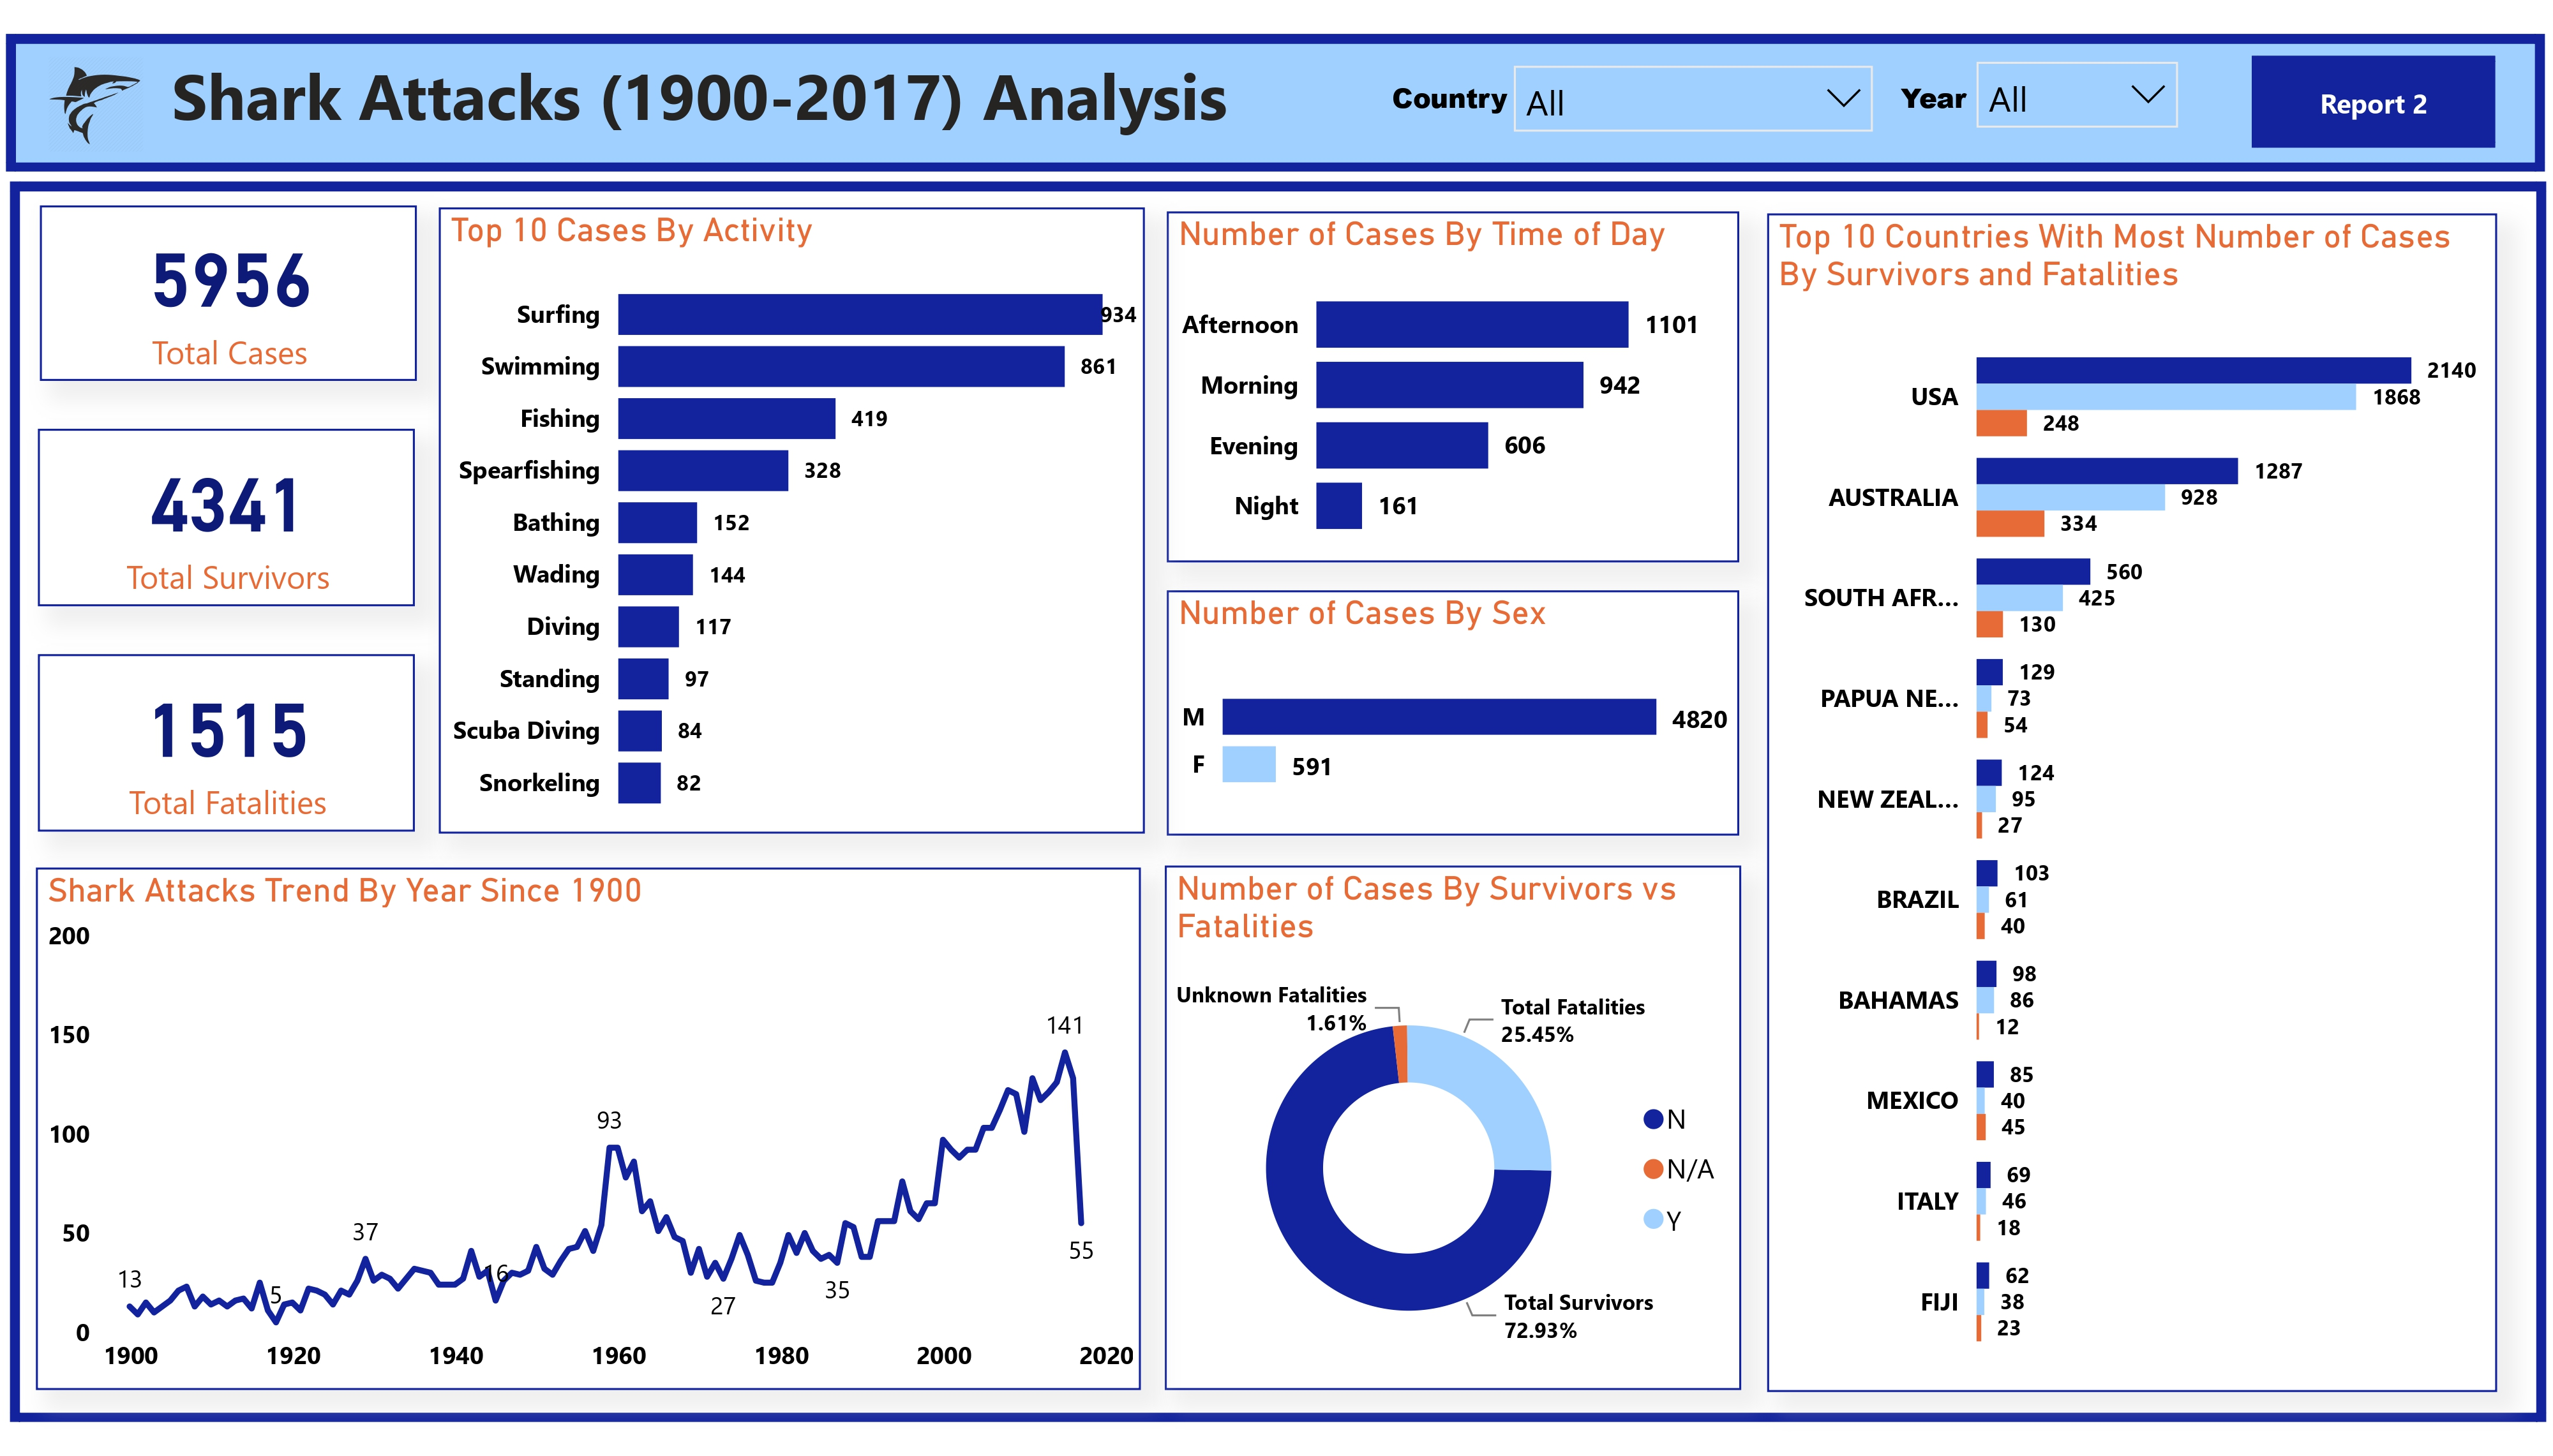

Layout of this report page (visuals, bound fields, positions):
{"tool":"powerbi","page":{"name":"REPORT 1","canvas":[1280,720],"ordinal":0},"visuals":[{"type":"textbox","box":[10,290,280,280],"z":0},{"type":"shape","box":[5,85.6,1271.6,622.4],"z":1000},{"type":"shape","box":[3,11.8,1272.9,69.5],"z":2000},{"type":"card","fields":{"Values":["DAX.Total Survivors"]},"box":[18.7,210.2,188.6,89.3],"z":3000},{"type":"card","fields":{"Values":["DAX.Total Cases"]},"box":[20.2,97.9,188.6,87.8],"z":4000},{"type":"card","fields":{"Values":["DAX.Total Fatalities"]},"box":[18.7,322.6,188.6,89.3],"z":5000},{"type":"barChart","title":"Number of Cases By Time of Day","fields":{"Category":["Attacks_New1.Time_Period"],"Y":["DAX.Total Cases"]},"box":[584.6,100.8,287.2,176.4],"z":6000},{"type":"donutChart","title":"Number of Cases By Survivors vs Fatalities","fields":{"Category":["Attacks_New1.Fatal (Y/N)"],"Y":["DAX.Total Survivors","DAX.Total Fatalities","DAX.Unknown Fatalities"]},"box":[583.8,429.5,288.5,263.4],"z":7000},{"type":"lineChart","title":"Shark Attacks Trend By Year Since 1900","fields":{"Category":["Attacks_New1.Year"],"Y":["DAX.Total Cases"]},"box":[18.5,430,554.3,262],"z":8000},{"type":"barChart","title":"Number of Cases By Sex","fields":{"Category":["Attacks_New1.Sex "],"Y":["DAX.Male Casualties","DAX.Female Casualties"]},"box":[584.6,290.6,287.2,122.6],"z":9000},{"type":"barChart","title":"Top 10 Cases By Activity","fields":{"Category":["Attacks_New1.Activity"],"Y":["DAX.Total Cases"]},"box":[219.8,99,354,313.7],"z":10000},{"type":"clusteredBarChart","title":"Top 10 Countries With Most Number of Cases By Survivors and Fatalities","fields":{"Y":["DAX.Total Cases","DAX.Total Survivors","DAX.Total Fatalities"],"Category":["Attacks_New1.Country"]},"box":[885.8,102.3,365.7,590.5],"z":11000},{"type":"textbox","box":[81.2,15.1,562.9,60.6],"z":12000},{"type":"slicer","fields":{"Values":["Attacks_New1.Country"]},"box":[748.8,21.6,200.2,46.1],"z":13000},{"type":"slicer","fields":{"Values":["Attacks_New1.Year"]},"box":[980.6,20.2,121,57.6],"z":14000},{"type":"textbox","box":[947.5,28.8,66.2,33.1],"z":15000},{"type":"textbox","box":[692.6,28.8,89.3,33.1],"z":16000},{"type":"image","box":[8.9,17.7,76.9,57.7],"z":17000},{"type":"actionButton","box":[1129,23,122.4,46.1],"z":18000}]}

Visuals, with their boxes in screenshot pixels (x1, y1, x2, y2), scaled from the page's 1280x720 canvas onto the 2553x1456 screenshot:
textbox: 20/586/578/1153
shape: 10/173/2546/1432
shape: 6/24/2545/165
card - DAX.Total Survivors: 37/425/414/605
card - DAX.Total Cases: 40/198/416/376
card - DAX.Total Fatalities: 37/652/414/833
"Number of Cases By Time of Day" barChart: 1166/204/1739/561
"Number of Cases By Survivors vs Fatalities" donutChart: 1164/868/1740/1401
"Shark Attacks Trend By Year Since 1900" lineChart: 37/870/1142/1399
"Number of Cases By Sex" barChart: 1166/588/1739/836
"Top 10 Cases By Activity" barChart: 438/200/1144/835
"Top 10 Countries With Most Number of Cases By Survivors and Fatalities" clusteredBarChart: 1767/207/2496/1401
textbox: 162/31/1285/153
slicer - Attacks_New1.Country: 1494/43/1893/137
slicer - Attacks_New1.Year: 1956/41/2197/158
textbox: 1890/58/2022/125
textbox: 1381/58/1559/125
image: 18/36/171/152
actionButton: 2252/47/2496/140
